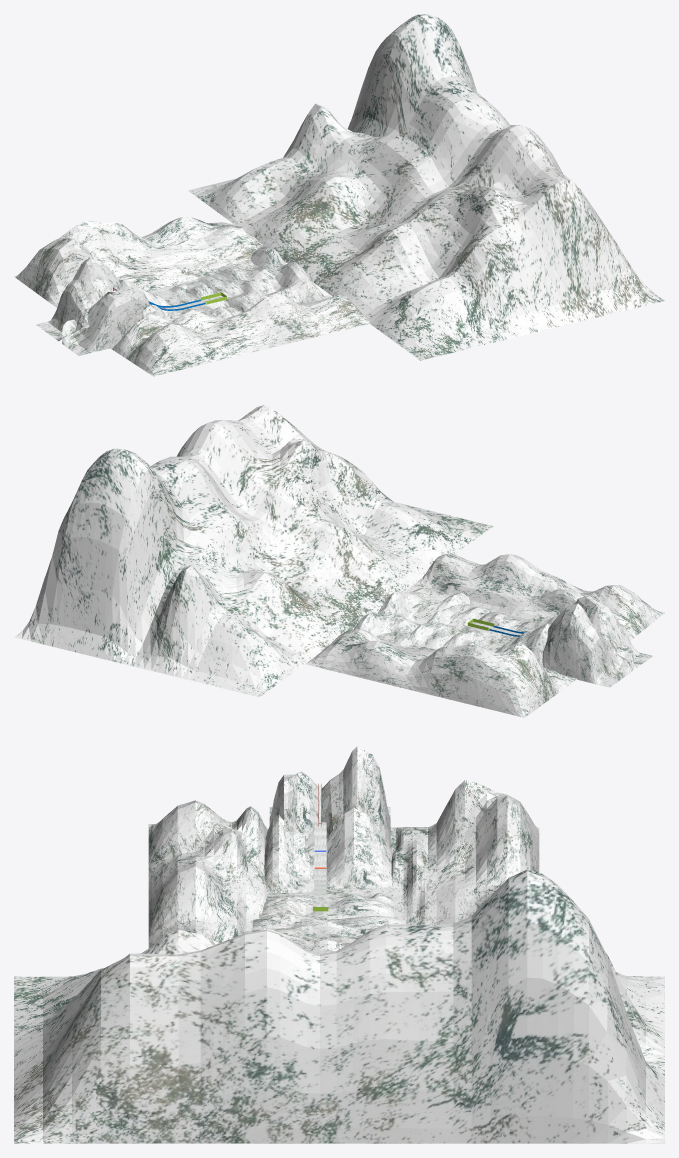
File: jump kai.fbx
3 views of the same model, one above another, from view 1: azimuth 30°, elevation 25°; view 2: azimuth 150°, elevation 25°; view 3: azimuth 270°, elevation 25° (orthographic). The views are drawn at different scales.
Parts seen in each view (by area): view 1: Curved Surface, やま６, やま７, Curved Surface_ncl1_5, Curved Surface_ncl1_3, やま_ncl1_3, やま, やま５, やま３; view 2: Curved Surface, やま６, やま７, Curved Surface_ncl1_3, やま_ncl1_3, やま, Curved Surface_ncl1_5, やま５, やま３; view 3: Curved Surface, やま６, やま７, やま３, Curved Surface_ncl1_3, やま２, やま５, やま, Curved Surface_ncl1_5, 着地台, やま_ncl1_3.
Part boxes in pixels (left/top/right/bottom): Curved Surface: left=188, top=14, right=664, bottom=360; やま６: left=14, top=217, right=285, bottom=307; やま７: left=111, top=293, right=371, bottom=376; Curved Surface_ncl1_5: left=62, top=289, right=149, bottom=355; Curved Surface_ncl1_3: left=36, top=258, right=121, bottom=341; やま_ncl1_3: left=218, top=245, right=326, bottom=303; やま: left=197, top=268, right=267, bottom=312; やま５: left=165, top=281, right=242, bottom=318; やま３: left=119, top=279, right=188, bottom=315; Curved Surface: left=14, top=405, right=493, bottom=697; やま６: left=305, top=628, right=577, bottom=717; やま７: left=404, top=553, right=664, bottom=640; Curved Surface_ncl1_3: left=542, top=603, right=634, bottom=687; やま_ncl1_3: left=354, top=588, right=470, bottom=646; やま: left=409, top=604, right=491, bottom=649; Curved Surface_ncl1_5: left=574, top=596, right=652, bottom=667; やま５: left=442, top=612, right=523, bottom=648; やま３: left=488, top=623, right=550, bottom=665; Curved Surface: left=14, top=869, right=664, bottom=1143; やま６: left=390, top=780, right=539, bottom=925; やま７: left=148, top=800, right=268, bottom=948; やま３: left=307, top=808, right=394, bottom=893; Curved Surface_ncl1_3: left=321, top=746, right=390, bottom=847; やま２: left=264, top=815, right=314, bottom=893; やま５: left=260, top=892, right=394, bottom=919; やま: left=252, top=913, right=405, bottom=942; Curved Surface_ncl1_5: left=269, top=771, right=318, bottom=844; 着地台: left=314, top=822, right=326, bottom=897; やま_ncl1_3: left=242, top=928, right=350, bottom=954.
Size of what is drawn, in the model's own units: 43000 by 14523 by 35000.
45 materials, 13 textured.
